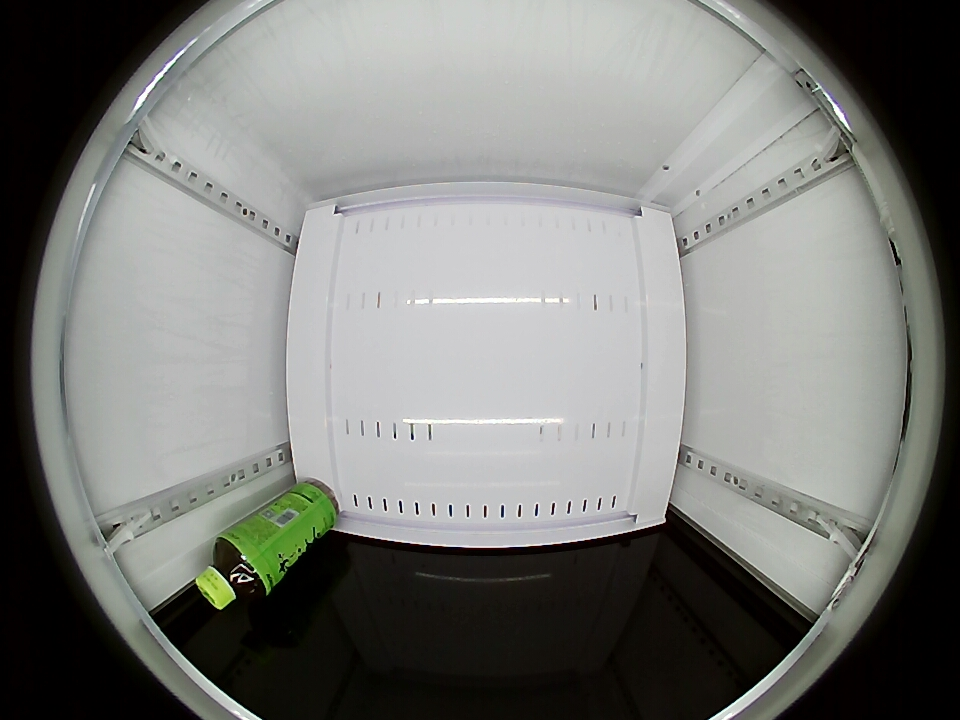yitengyuan: (196, 531, 276, 610)
